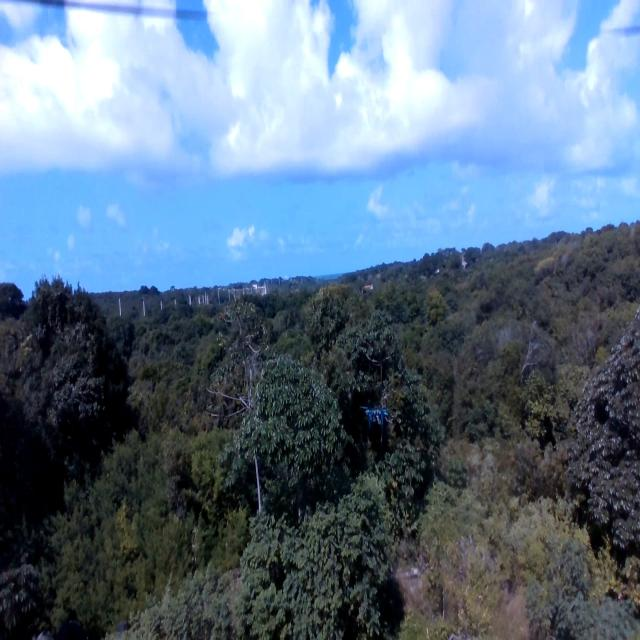-uav-: (356, 398, 396, 442)
